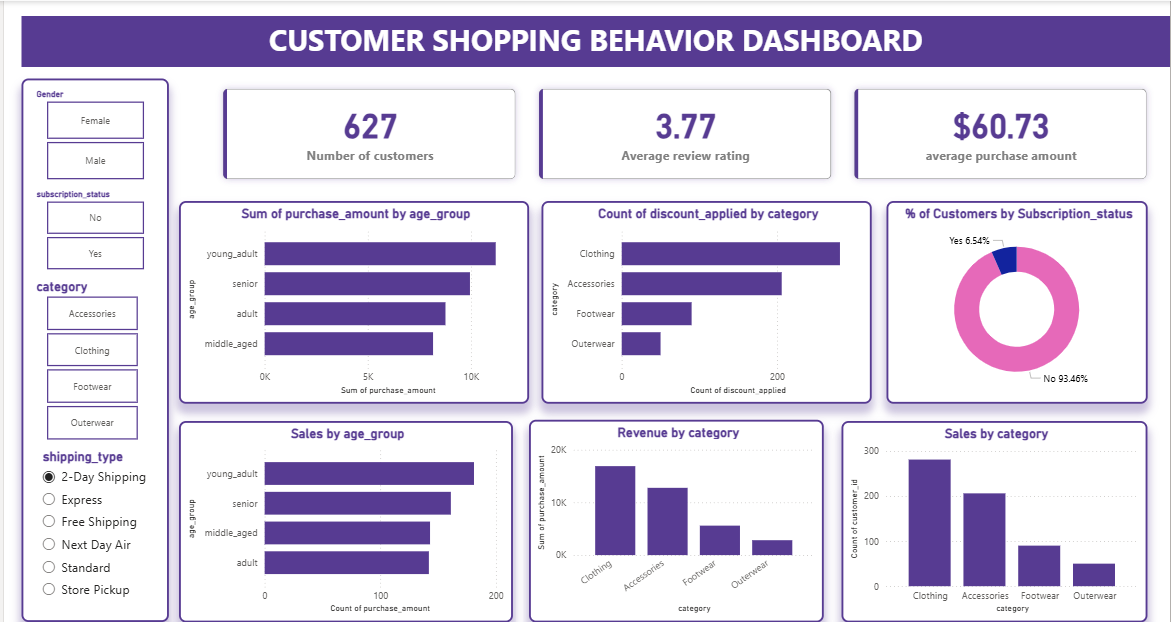

Layout of this report page (visuals, bound fields, positions):
{"tool":"powerbi","page":{"name":"Page 1","canvas":[1500,800],"ordinal":0},"visuals":[{"type":"cardVisual","fields":{"Data":["customer_shopping_behavior customer_data.Number of customers","customer_shopping_behavior customer_data.Average review rating","customer_shopping_behavior customer_data.average purchase amount"]},"box":[254.1,85.2,1246.3,172.1],"z":0},{"type":"textbox","box":[22.5,19.3,1477.8,65.9],"z":1000},{"type":"donutChart","title":"% of Customers  by Subscription_status","fields":{"Category":["customer_shopping_behavior customer_data.subscription_status"],"Y":["Sum(customer_shopping_behavior customer_data.customer_id)"]},"box":[1135.3,257.3,336.1,260.5],"z":2000},{"type":"clusteredBarChart","fields":{"Category":["customer_shopping_behavior customer_data.category"],"Y":["CountNonNull(customer_shopping_behavior customer_data.discount_applied)"]},"box":[691.5,257.3,424.5,260.5],"z":3000},{"type":"columnChart","title":"Revenue by category","fields":{"Y":["Sum(customer_shopping_behavior customer_data.purchase_amount)"],"Category":["customer_shopping_behavior customer_data.category"]},"box":[675.4,538.7,379.5,260.5],"z":4000},{"type":"columnChart","title":"Sales by category","fields":{"Y":["CountNonNull(customer_shopping_behavior customer_data.customer_id)"],"Category":["customer_shopping_behavior customer_data.category"]},"box":[1077.4,540.3,394,258.9],"z":5000},{"type":"textbox","box":[22.5,99.7,189.8,699.5],"z":6000},{"type":"slicer","fields":{"Values":["customer_shopping_behavior customer_data.gender"]},"box":[28.9,107.7,175.3,128.6],"z":7000},{"type":"slicer","fields":{"Values":["customer_shopping_behavior customer_data.subscription_status"]},"box":[28.9,236.4,175.3,115.8],"z":8000},{"type":"slicer","fields":{"Values":["customer_shopping_behavior customer_data.category"]},"box":[28.9,352.2,167.2,218.7],"z":8001},{"type":"slicer","fields":{"Values":["customer_shopping_behavior customer_data.shipping_type"]},"box":[37,570.9,167.2,213.9],"z":8002},{"type":"clusteredBarChart","fields":{"Y":["Sum(customer_shopping_behavior customer_data.purchase_amount)"],"Category":["customer_shopping_behavior customer_data.age_group"]},"box":[225.1,257.3,450.3,260.5],"z":8003},{"type":"clusteredBarChart","title":"Sales by age_group","fields":{"Category":["customer_shopping_behavior customer_data.age_group"],"Y":["CountNonNull(customer_shopping_behavior customer_data.purchase_amount)"]},"box":[225.1,540.3,429.4,258.9],"z":8004}]}

Visuals, with their boxes in screenshot pixels (x1, y1, x2, y2), scaled from the page's 1500x800 canvas onto the 1171x622 screenshot:
cardVisual - customer_shopping_behavior customer_data.Number of customers x customer_shopping_behavior customer_data.Average review rating: [x1=198, y1=66, x2=1170, y2=200]
textbox: [x1=18, y1=15, x2=1170, y2=66]
"% of Customers  by Subscription_status" donutChart: [x1=886, y1=200, x2=1149, y2=403]
clusteredBarChart - customer_shopping_behavior customer_data.category x CountNonNull(customer_shopping_behavior customer_data.discount_applied): [x1=540, y1=200, x2=871, y2=403]
"Revenue by category" columnChart: [x1=527, y1=419, x2=824, y2=621]
"Sales by category" columnChart: [x1=841, y1=420, x2=1149, y2=621]
textbox: [x1=18, y1=78, x2=166, y2=621]
slicer - customer_shopping_behavior customer_data.gender: [x1=23, y1=84, x2=159, y2=184]
slicer - customer_shopping_behavior customer_data.subscription_status: [x1=23, y1=184, x2=159, y2=274]
slicer - customer_shopping_behavior customer_data.category: [x1=23, y1=274, x2=153, y2=444]
slicer - customer_shopping_behavior customer_data.shipping_type: [x1=29, y1=444, x2=159, y2=610]
clusteredBarChart - Sum(customer_shopping_behavior customer_data.purchase_amount) x customer_shopping_behavior customer_data.age_group: [x1=176, y1=200, x2=527, y2=403]
"Sales by age_group" clusteredBarChart: [x1=176, y1=420, x2=511, y2=621]
